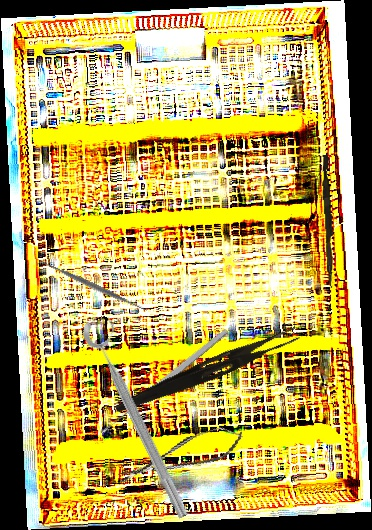Dressing Forceps: (113, 319, 301, 423)
Fixation Ring: (79, 312, 205, 522)
Micro Scissor: (113, 421, 248, 490)
Pusher: (319, 154, 338, 289)
Spatula Surgical: (35, 254, 151, 318)
Surgical Spoon: (98, 327, 230, 436)
